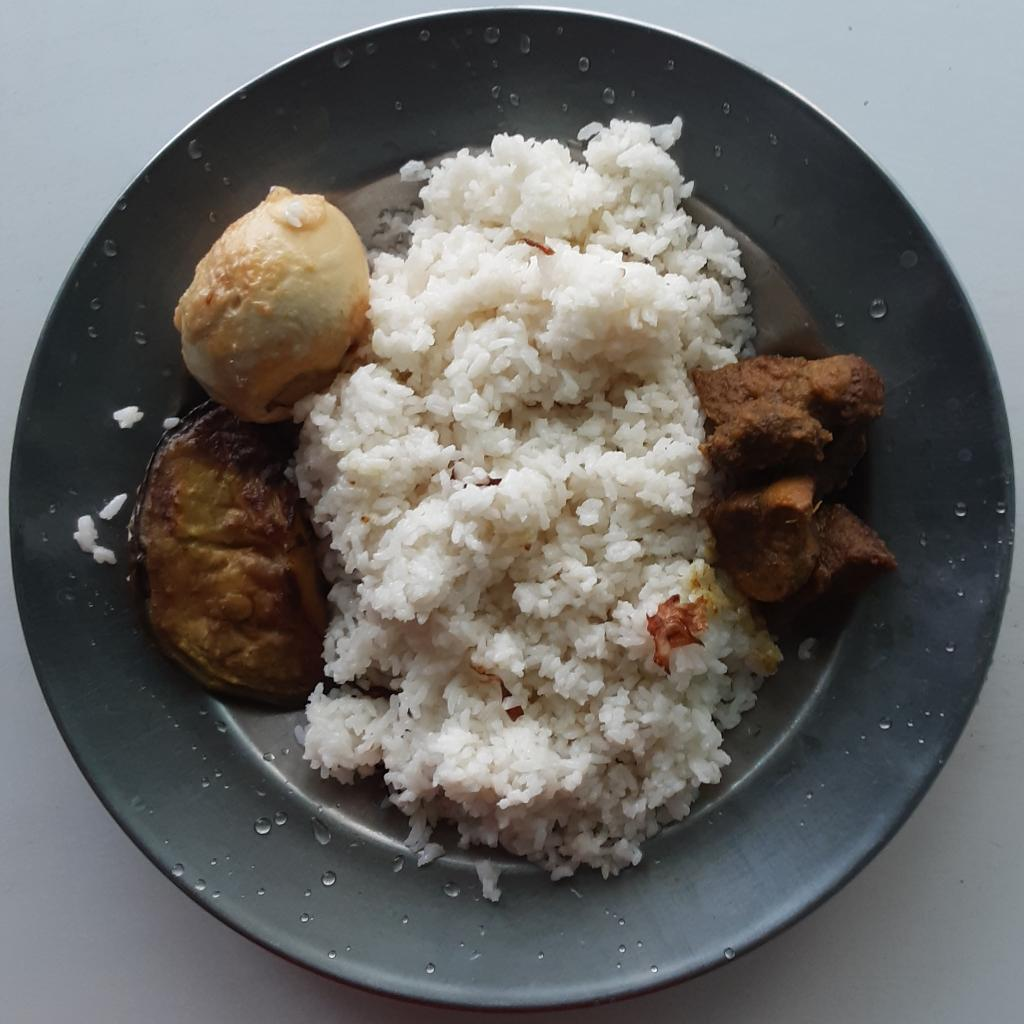beef: (697, 355, 897, 607)
begun-vaji: (126, 397, 325, 703)
egg-poached: (172, 184, 367, 422)
rice: (282, 118, 786, 899)
